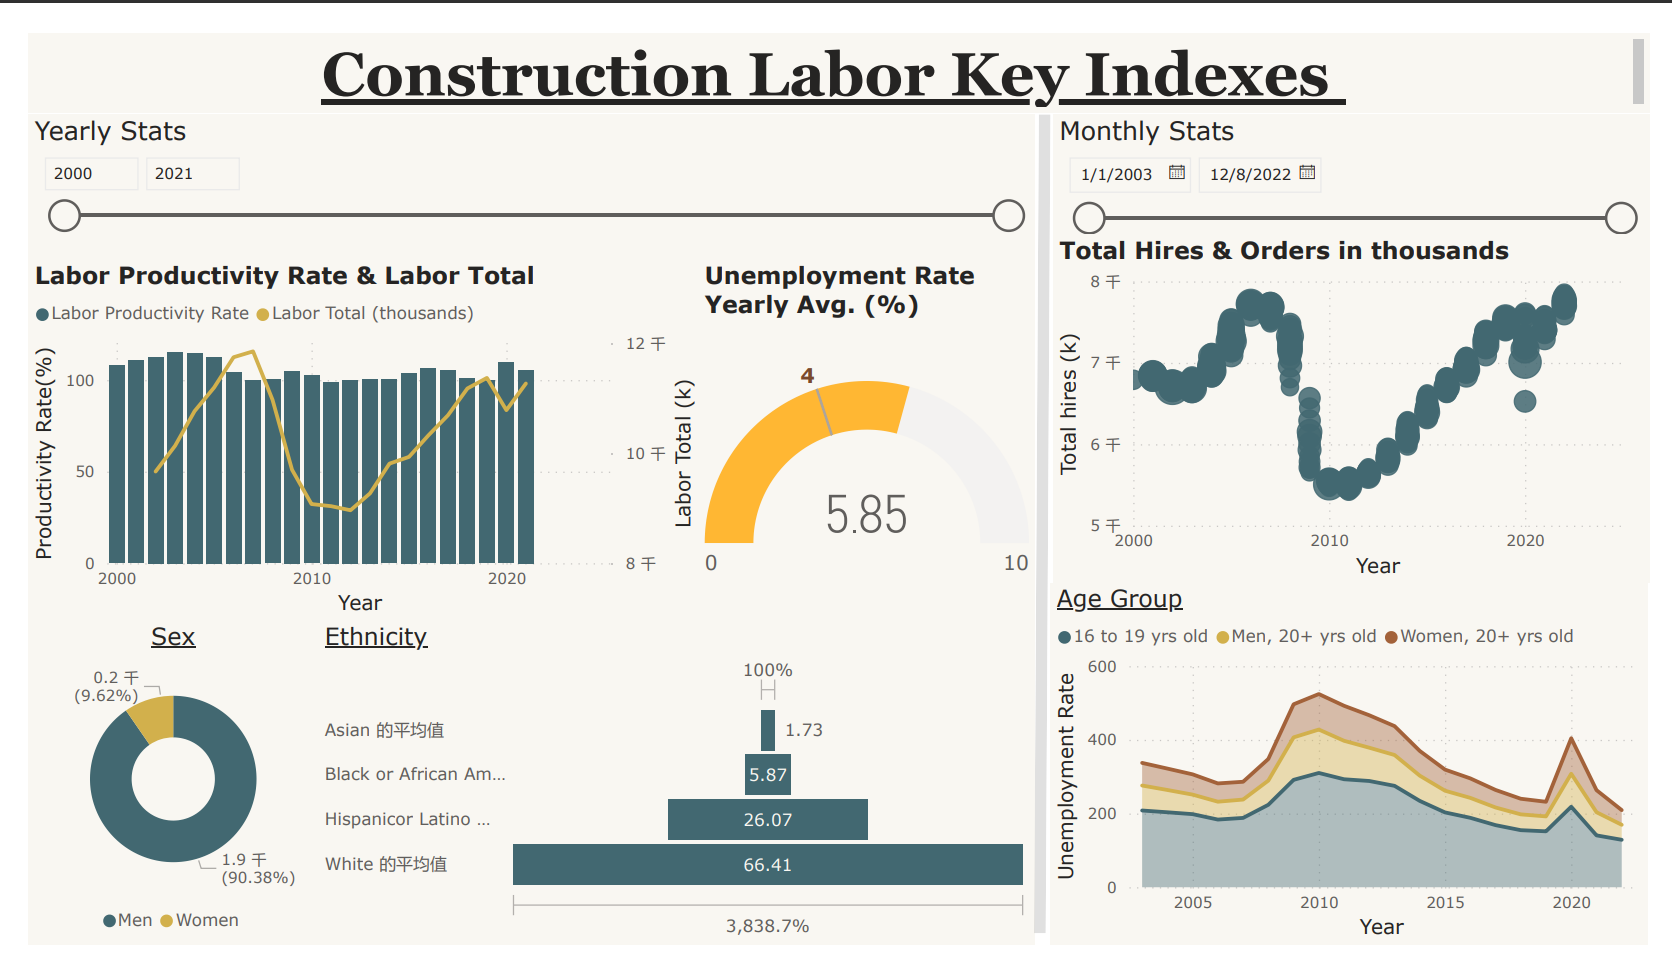

The page's visual inventory and layout, read from the dashboard file:
{"tool":"powerbi","page":{"name":"Dashboard","canvas":[1280,720],"ordinal":0},"visuals":[{"type":"textbox","box":[0,0,1280,62.9],"z":0},{"type":"lineStackedColumnComboChart","title":"Labor Productivity Rate & Labor Total","fields":{"Category":["ProductivityYearly.Year"],"Y":["Sum(ProductivityYearly.Labor Productivity Rate)"],"Y2":["Sum(ConstructionMinorityYearly.Total (thousands))"]},"box":[0,178.8,532.5,285],"z":1000},{"type":"donutChart","title":"Sex","fields":{"Y":["Sum(ConstructionMinorityYearly.Men)","Sum(ConstructionMinorityYearly.Women)"]},"box":[0,463.8,228.8,256.2],"z":2000},{"type":"funnel","title":"Ethnicity","fields":{"Y":["Avg(ConstructionMinorityYearly.Asian)","Avg(ConstructionMinorityYearly.Black or African American)","Avg(ConstructionMinorityYearly.Hispanicor Latino)","Avg(ConstructionMinorityYearly.White)"]},"box":[228.8,463.8,566.2,256.2],"z":3000},{"type":"gauge","title":"Unemployment Rate Yearly Avg. (%)","fields":{"Y":["Avg(Combined Unemployment Monthly.Unemployment Rate, Percent, Monthly, Seasonally Adjusted)"]},"box":[528.8,178.8,266.2,285],"z":4000},{"type":"slicer","title":"Yearly Stats","fields":{"Values":["ProductivityYearly.Year"]},"box":[0,63.8,795,115],"z":5000},{"type":"stackedAreaChart","title":"Age Group","fields":{"Category":["FRED Labor Ordered.USCONS Date.Variation.Date Hierarchy.Year"],"Y":["Sum(UNR_Demographic_Monthly.16 to 19 years old)","Sum(UNR_Demographic_Monthly.Men, 20 years and over)","Sum(UNR_Demographic_Monthly.Women, 20 years and over)"]},"box":[807.1,434.3,471.4,285.7],"z":6000},{"type":"slicer","title":"Monthly Stats","fields":{"Values":["UNR_Demographic_Monthly.Month"]},"box":[808.8,63.8,471.2,95],"z":7000},{"type":"scatterChart","title":"Total Hires & Orders in thousands","fields":{"X":["FRED Labor Ordered.USCONS Date.Variation.Date Hierarchy.Year"],"Size":["Sum(FRED Hires Ordered.Hires: Construction, Level in Thousands, Monthly, Not Seasonally Adjusted)"],"Y":["FRED Labor Ordered.All Employees, Construction, Thousands of Persons, Monthly, Seasonally Adjusted"]},"box":[808.6,158.6,471.4,275.7],"z":8000},{"type":"shape","box":[794.3,64.3,12.9,647.1],"z":9000}]}

Visuals, with their boxes on the page's 1280x720 design canvas (x1, y1, x2, y2). These are canvas units, not pixel positions in the 1672x973 screenshot, which may show the page scaled, cropped or inside an application window:
textbox: bbox=(0, 0, 1280, 63)
"Labor Productivity Rate & Labor Total" lineStackedColumnComboChart: bbox=(0, 179, 532, 464)
"Sex" donutChart: bbox=(0, 464, 229, 720)
"Ethnicity" funnel: bbox=(229, 464, 795, 720)
"Unemployment Rate Yearly Avg. (%)" gauge: bbox=(529, 179, 795, 464)
"Yearly Stats" slicer: bbox=(0, 64, 795, 179)
"Age Group" stackedAreaChart: bbox=(807, 434, 1278, 720)
"Monthly Stats" slicer: bbox=(809, 64, 1280, 159)
"Total Hires & Orders in thousands" scatterChart: bbox=(809, 159, 1280, 434)
shape: bbox=(794, 64, 807, 711)
